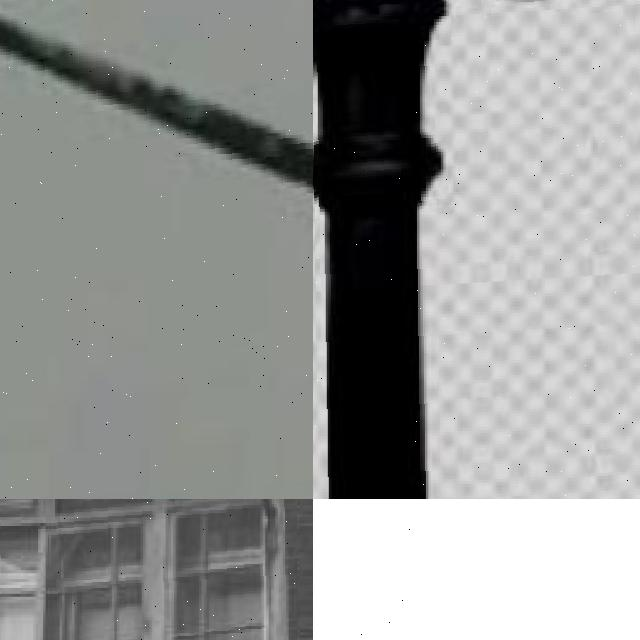street light: (313, 0, 640, 499), (0, 0, 313, 499), (45, 499, 297, 640), (313, 499, 429, 640)
